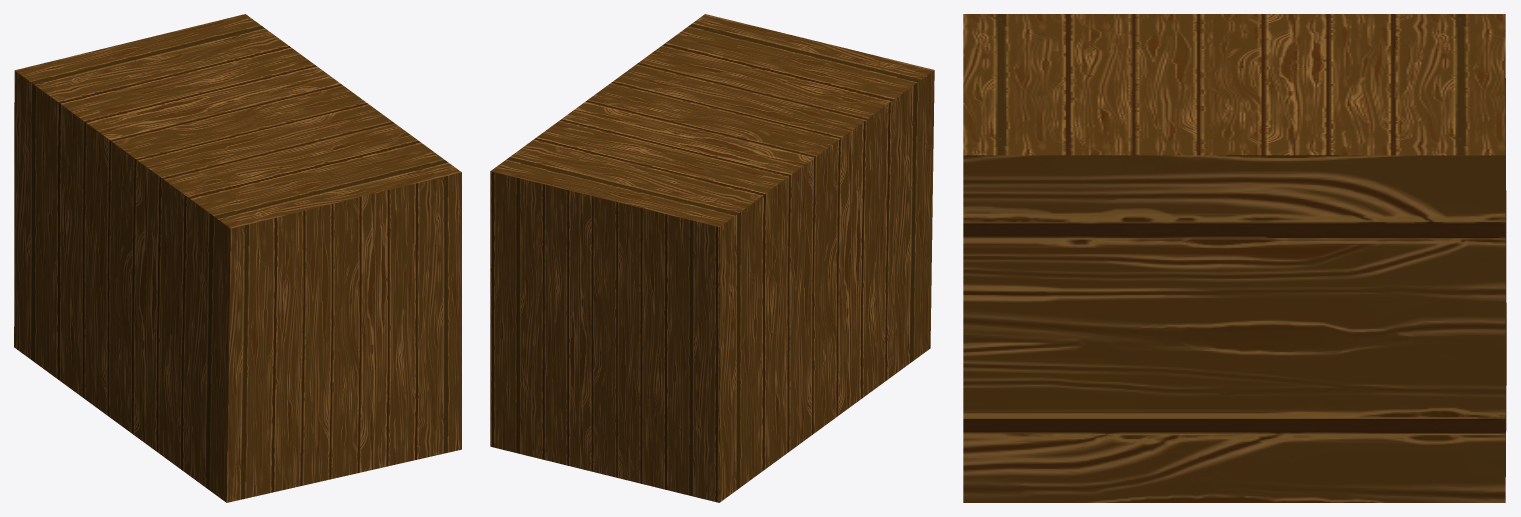
3 renders of one model, left to right at view 1: azimuth 30°, elevation 25°; view 2: azimuth 150°, elevation 25°; view 3: azimuth 270°, elevation 25°, orthographic. The views are drawn at different scales.
Parts seen in each view (by area): view 1: Cube.1672; view 2: Cube.1672; view 3: Cube.1672.
Part boxes in pixels (x1=…): Cube.1672: x1=14, y1=14, x2=461, y2=502; Cube.1672: x1=490, y1=14, x2=934, y2=502; Cube.1672: x1=963, y1=14, x2=1506, y2=502.
Bounding box in the file's own units: 562 × 645 × 913.
Materials: 1 (1 with a texture image).
